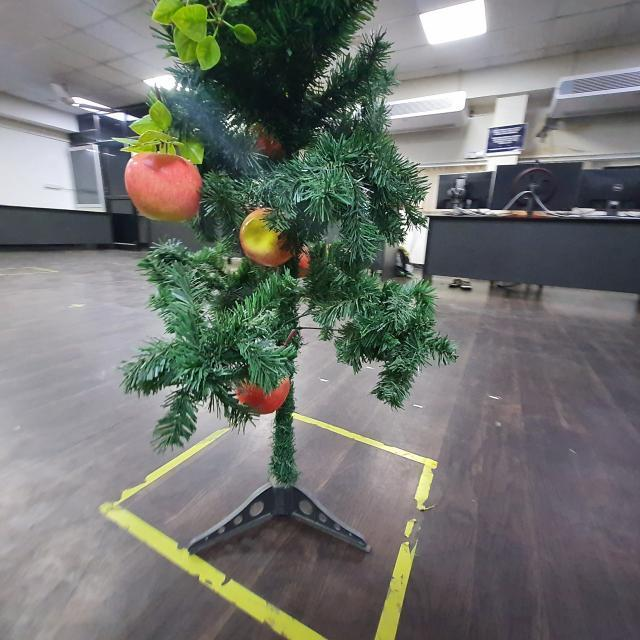tree: (130, 0, 429, 546)
